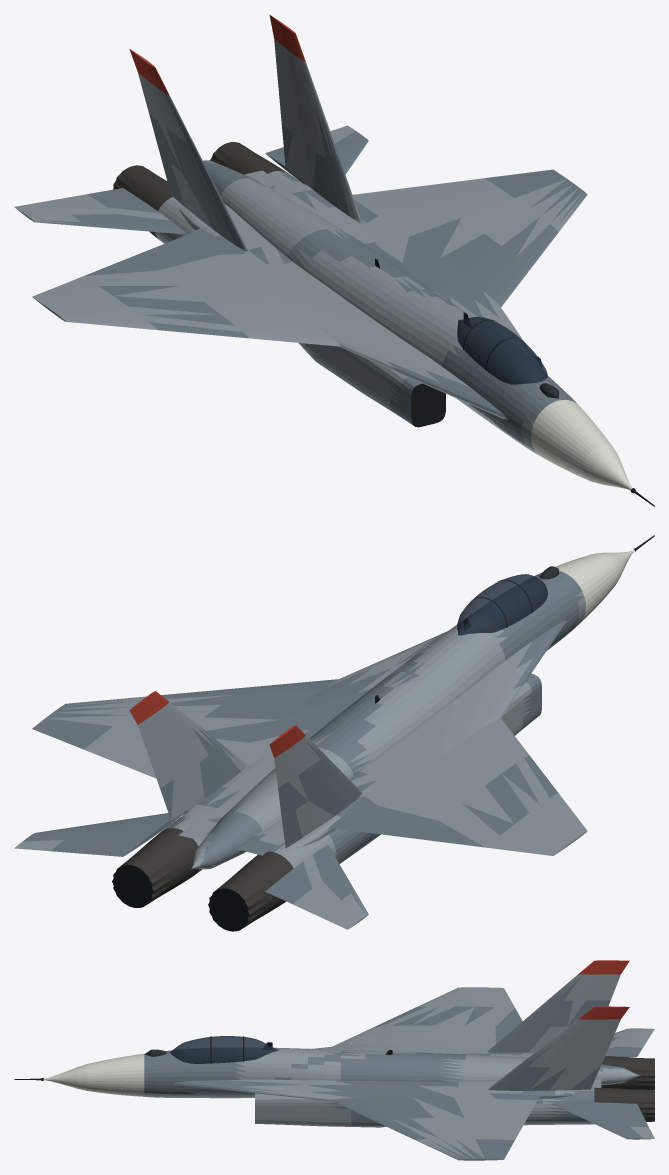
3 renders of one model, top to bottom at view 1: azimuth 30°, elevation 25°; view 2: azimuth 150°, elevation 25°; view 3: azimuth 270°, elevation 25°, orthographic. The views are drawn at different scales.
Parts seen in each view (by area): view 1: airframe, canopy; view 2: airframe, canopy; view 3: airframe, canopy.
Boxes of the visible parts, box(x1,y1,x2,y2) form: airframe: box(14, 14, 654, 506); canopy: box(457, 317, 547, 384); airframe: box(14, 535, 654, 931); canopy: box(457, 574, 547, 635); airframe: box(14, 960, 654, 1160); canopy: box(170, 1036, 278, 1063).
Size of the model in its own units: 11.4 by 3.84 by 17.95.
